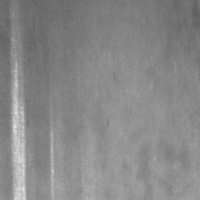scratches: (8, 52, 30, 200), (45, 113, 58, 199)
